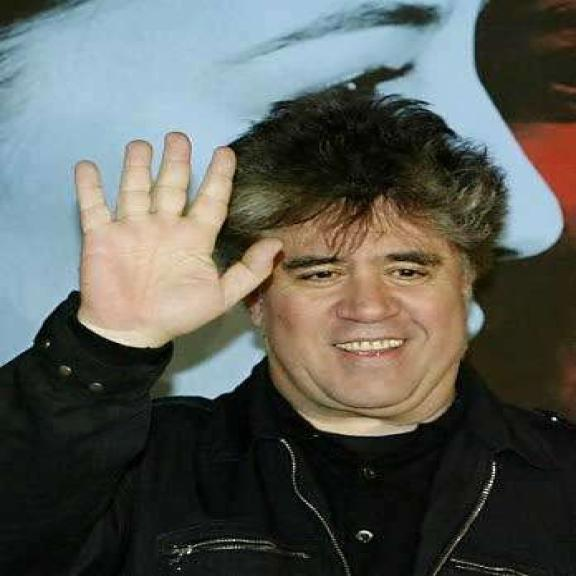face: (224, 203, 479, 422)
